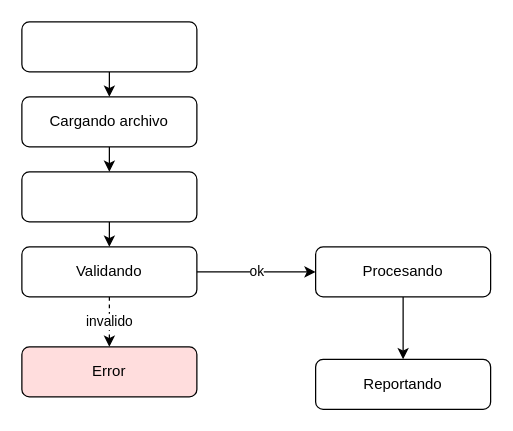
This 513x431 diagram has some shape labels left out. The box of each missing label's shape, as (x1, y1, x2, y2) in pixels:
Inicio: (21, 21, 197, 72)
Parsing: (21, 171, 197, 222)
